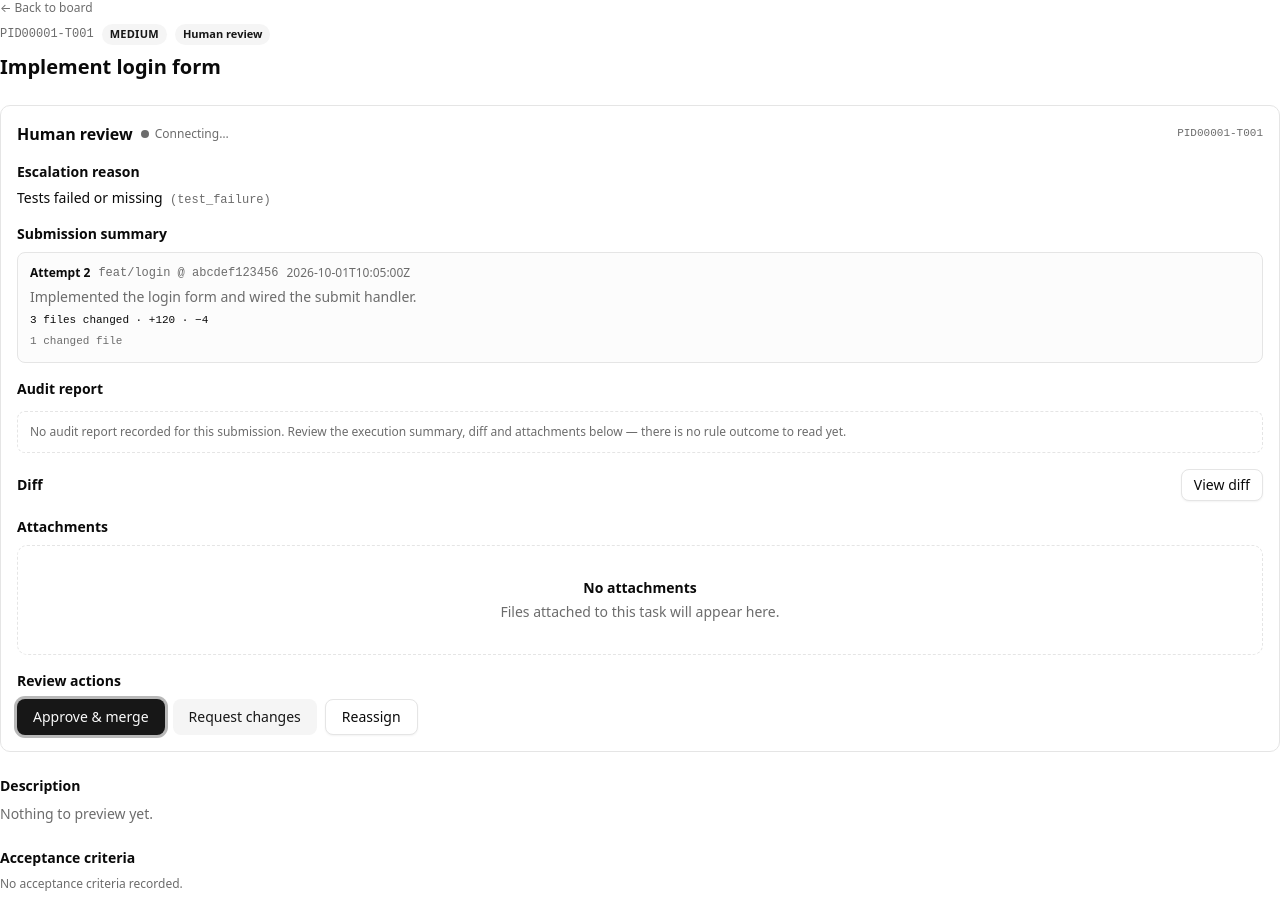
it: review actions by keyboard (MT-4.11-02) › approve completes keyboard-only and binds the displayed resolution (T15)
The image size is (1280, 900).
Press Enter in the button with test id "review-approve-open", box [17, 699, 164, 735]
Click the button with test id "review-approve-open" at (91, 717), box [17, 699, 164, 735]
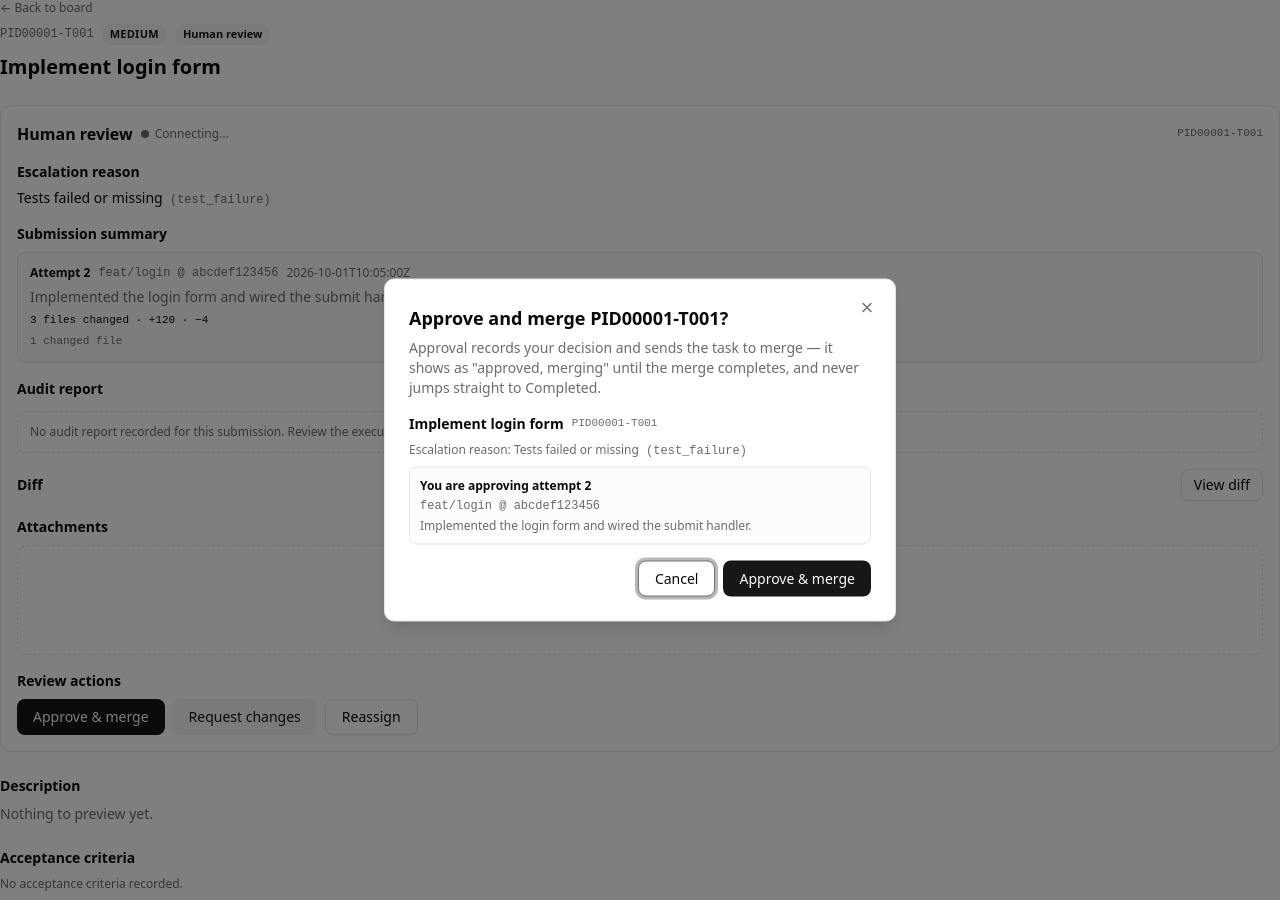
Press Tab in the button "Cancel", box [638, 560, 716, 596]
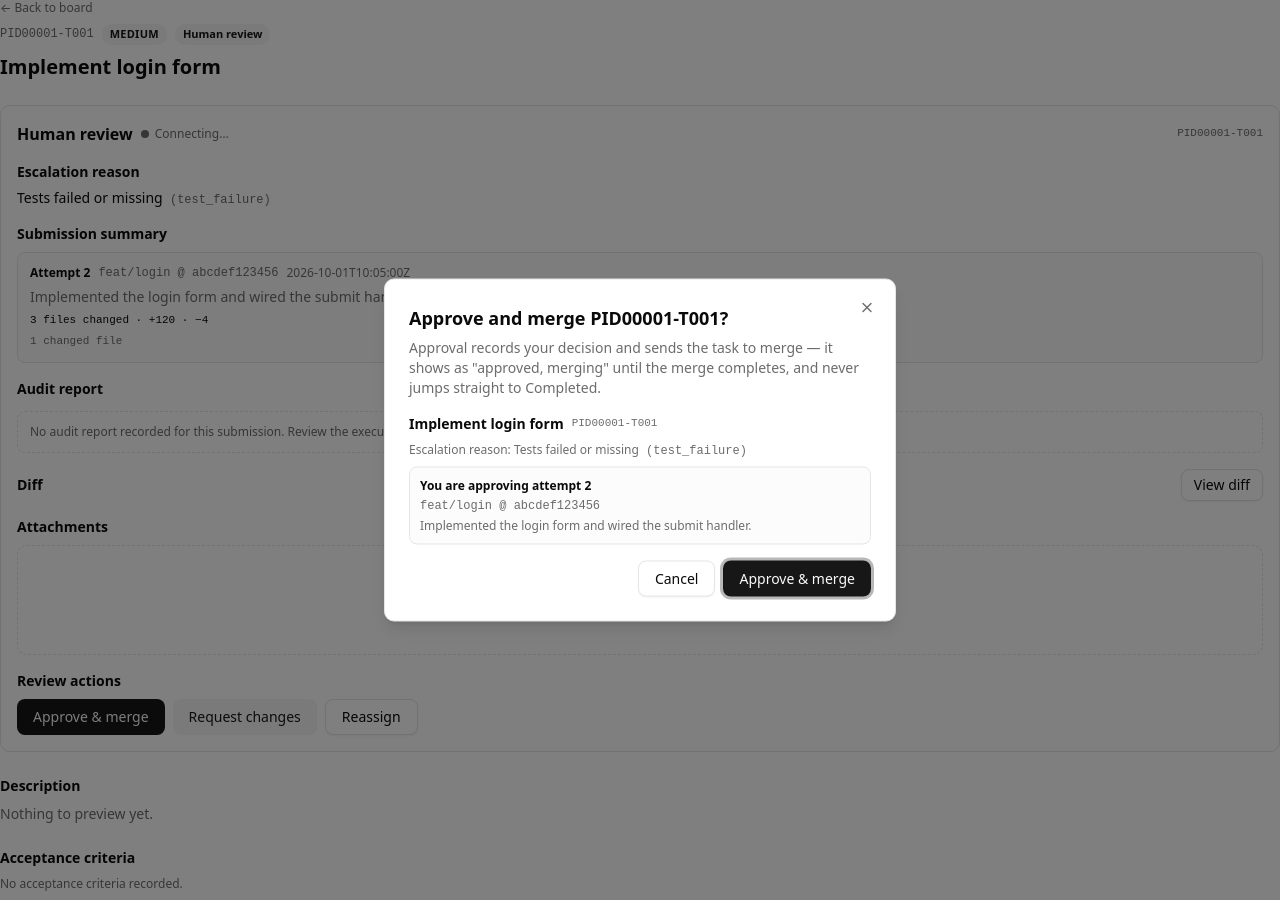
Press Enter in the button with test id "approve-confirm", box [724, 560, 871, 596]
Click the button with test id "approve-confirm" at (797, 578), box [724, 560, 871, 596]
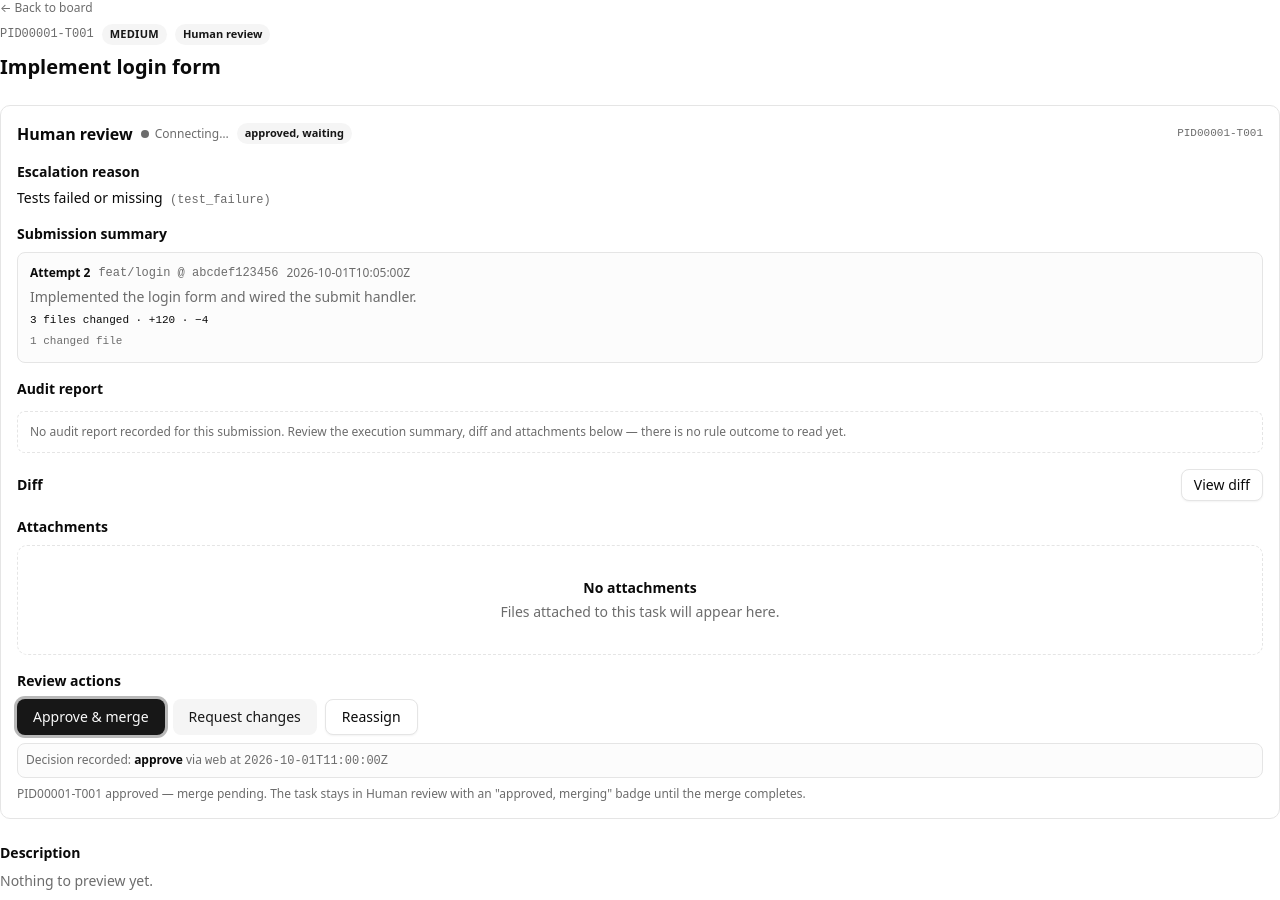
expect the message with test id "review-notice" shows "merge pending": met, box [17, 785, 806, 802]
expect the text with test id "review-notice" no longer shows "completed": met
expect the dialog with test id "approve-merge-dialog" is gone: met
